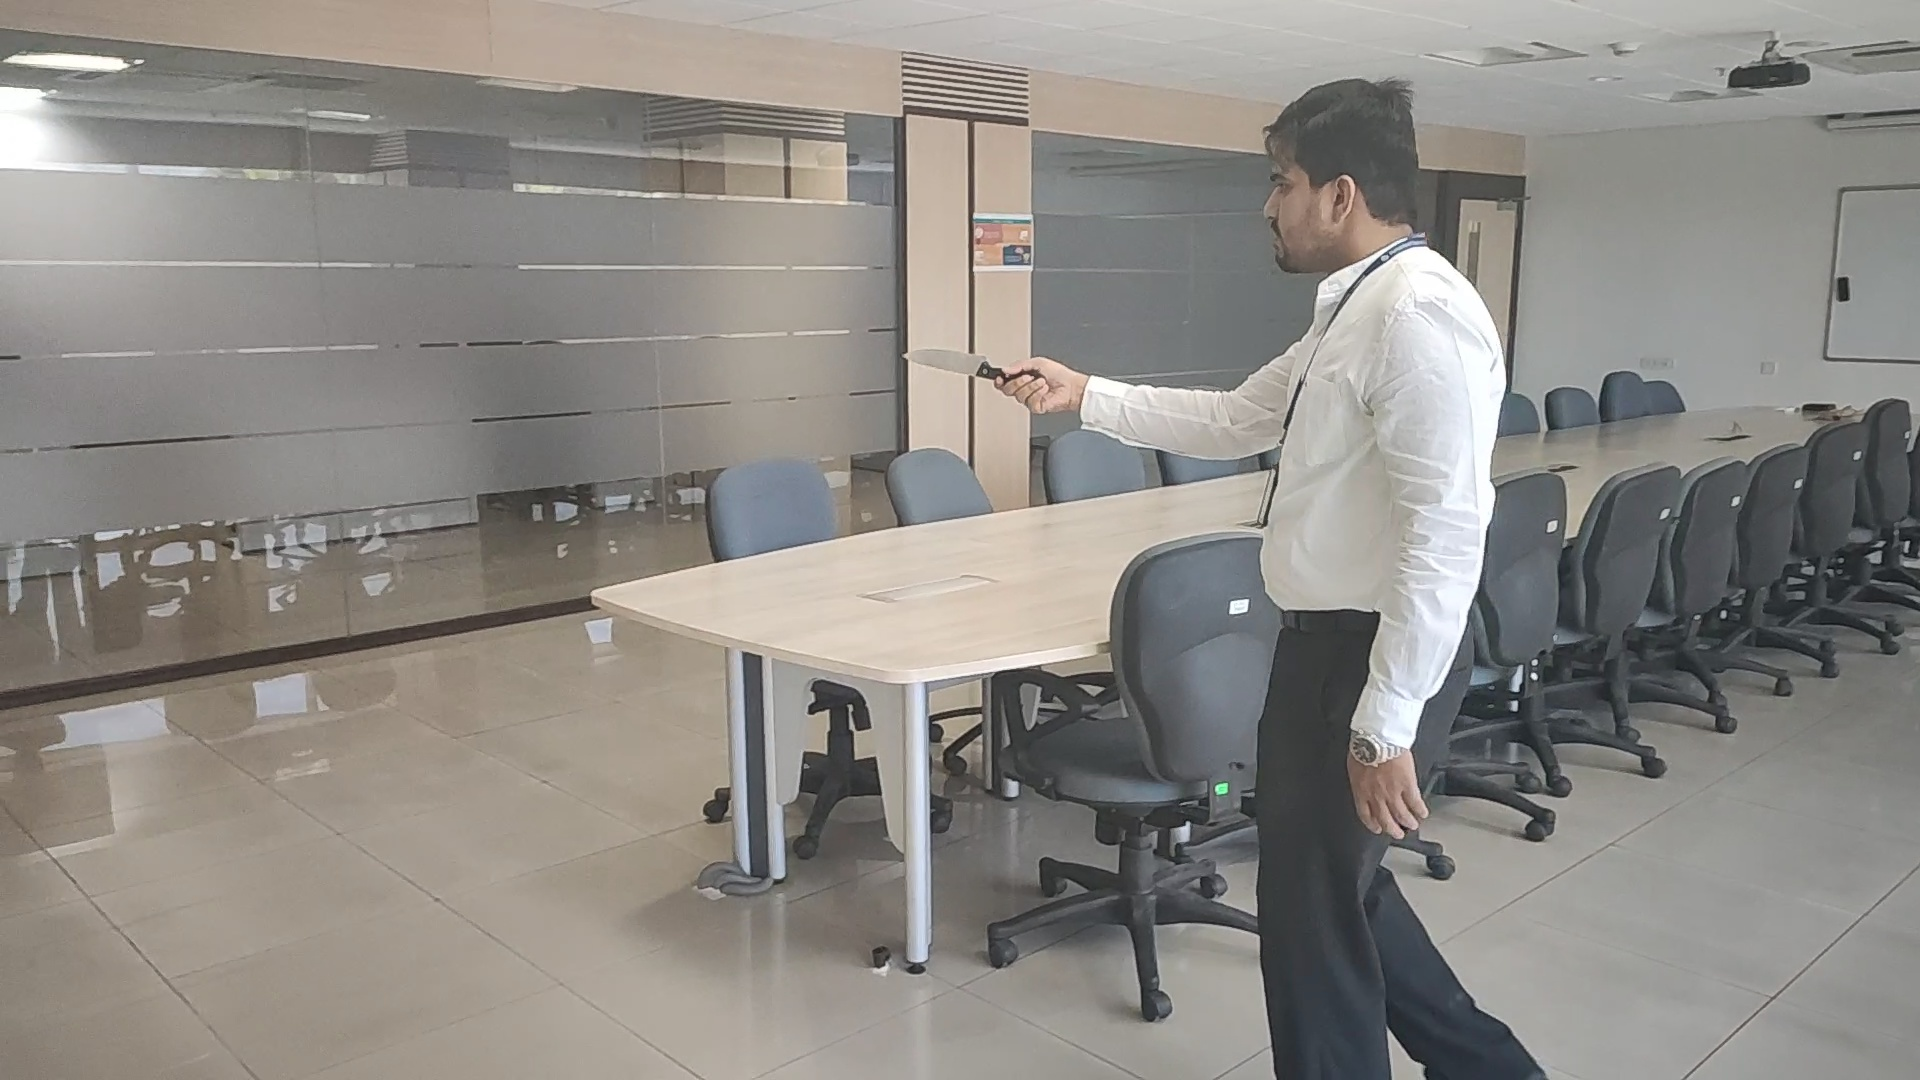knife: (901, 348, 994, 380)
